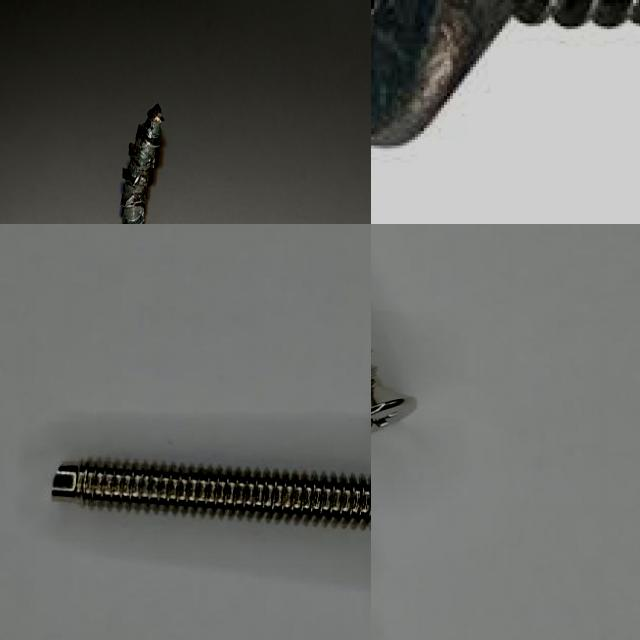Screw: (371, 0, 640, 151), (53, 460, 371, 527), (121, 103, 164, 224)
